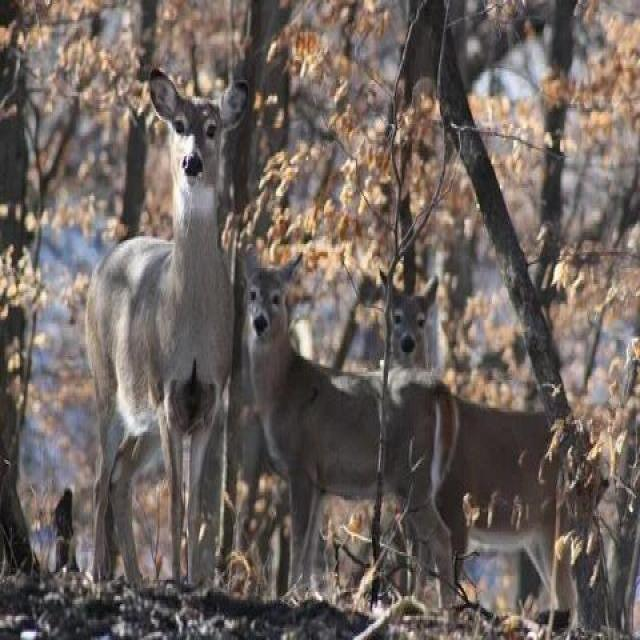deer: (59, 69, 260, 536), (217, 232, 409, 604), (355, 284, 508, 512)
